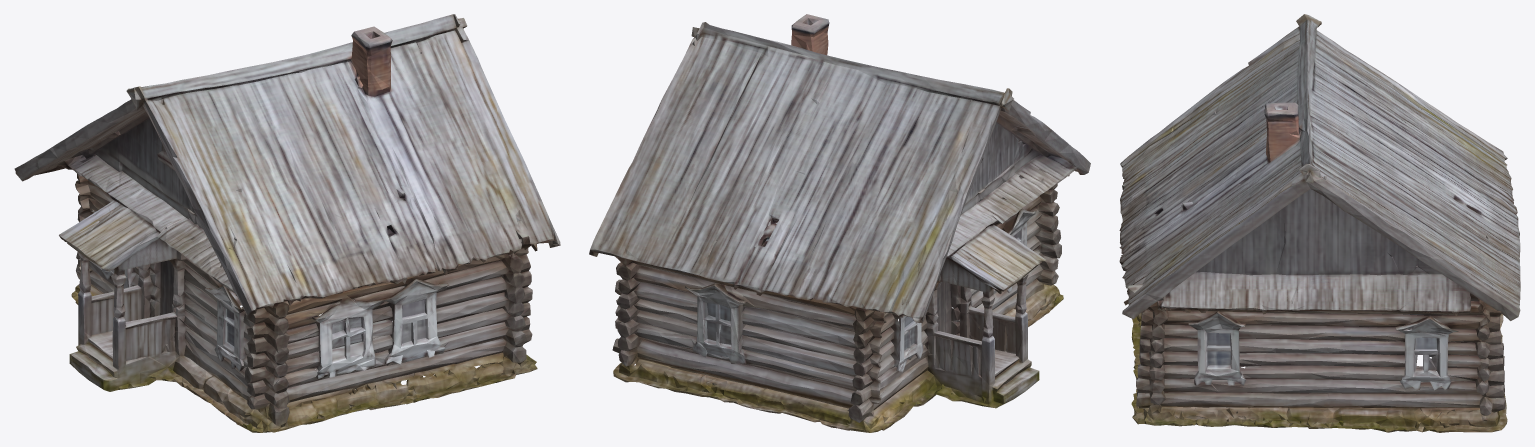
Rendered from k_izba.obj.
3 views of the same model, side by side, from view 1: azimuth 30°, elevation 25°; view 2: azimuth 150°, elevation 25°; view 3: azimuth 270°, elevation 25° (orthographic). The views are drawn at different scales.
Parts seen in each view (by area): view 1: k_izba; view 2: k_izba; view 3: k_izba.
Part boxes in pixels (x1,y1,x2,y2): k_izba: (14, 14, 560, 432); k_izba: (589, 14, 1090, 432); k_izba: (1119, 14, 1520, 432).
Size of the model in its own units: 8.89 by 7.07 by 9.
Materials: 1 (1 with a texture image).
